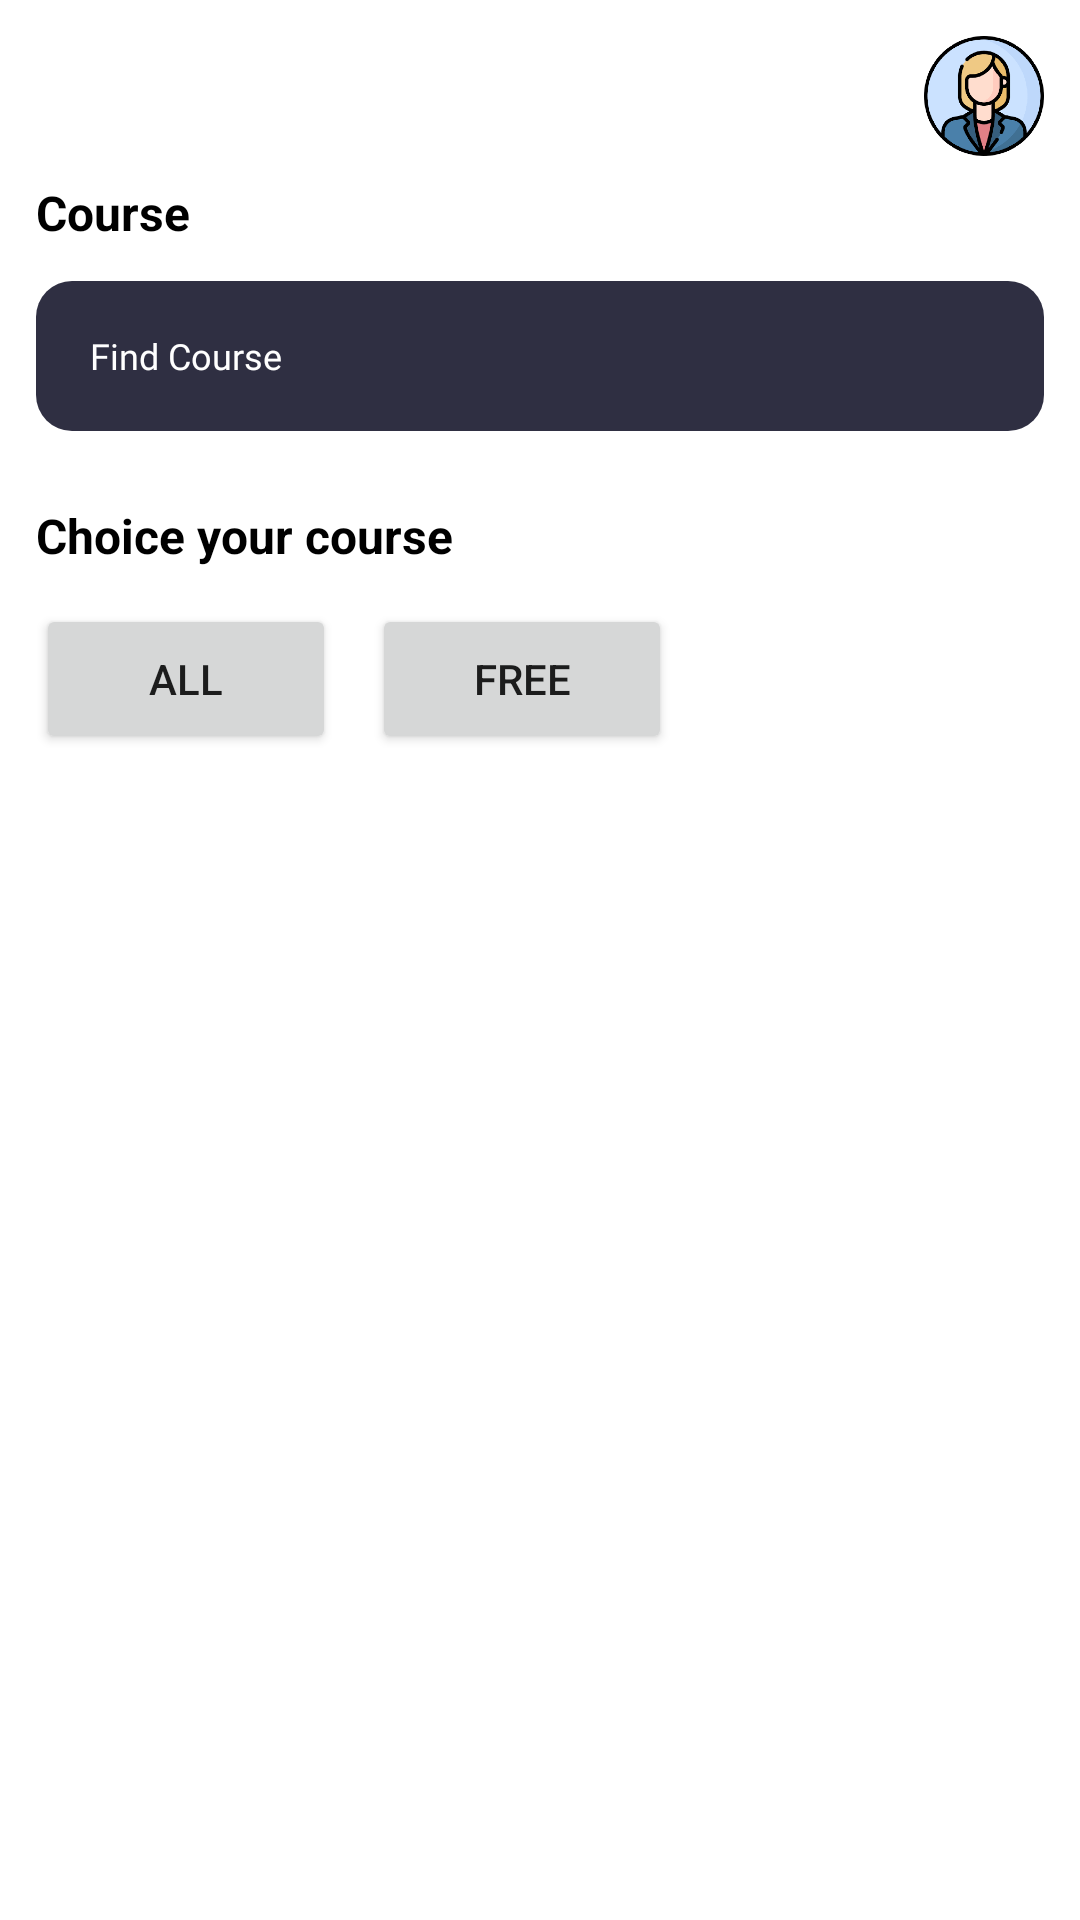

Where icons sit on this 1080*1920 app screen, as (x1, y1, x2, y2):
account profile: (924, 36, 1044, 156)
